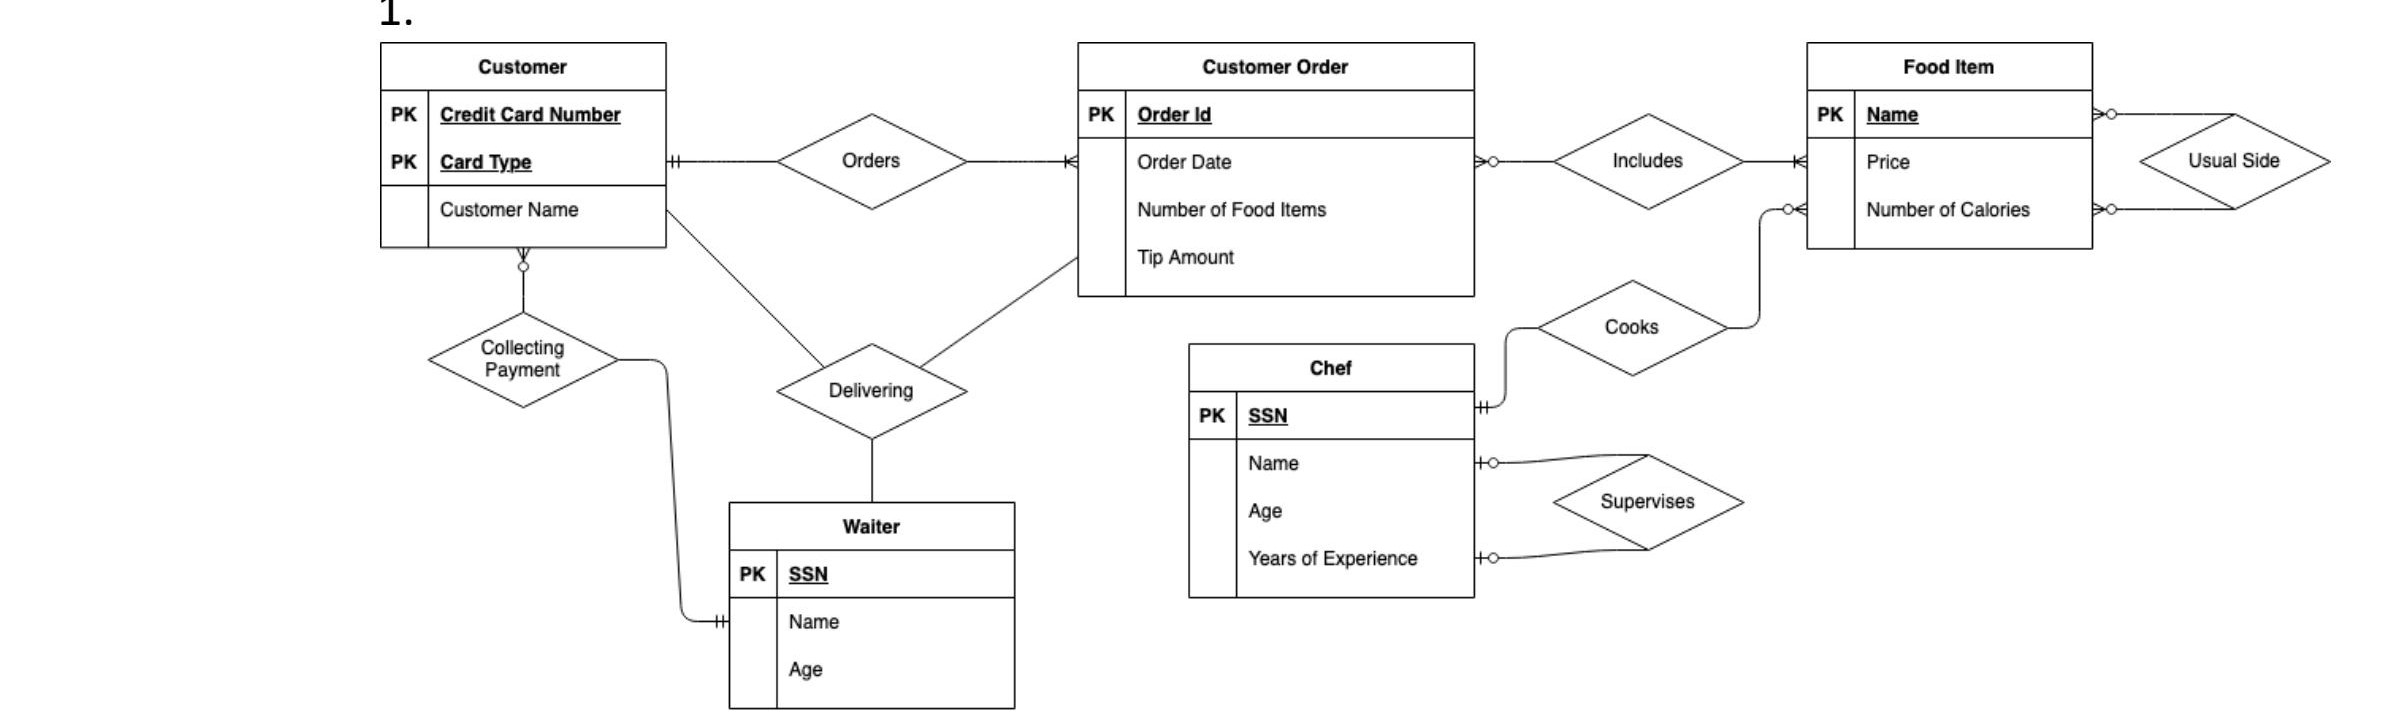Entity: (1074, 38, 1486, 305), (1183, 340, 1478, 605), (377, 35, 676, 255), (723, 494, 1021, 712), (1805, 29, 2093, 252)
Relationship: (773, 343, 974, 447), (425, 308, 621, 412), (1553, 453, 1753, 553), (776, 111, 968, 213), (1559, 111, 1742, 216), (1540, 276, 1727, 377), (2140, 117, 2333, 208)
